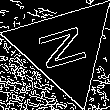N_E: (34, 21, 95, 74)
